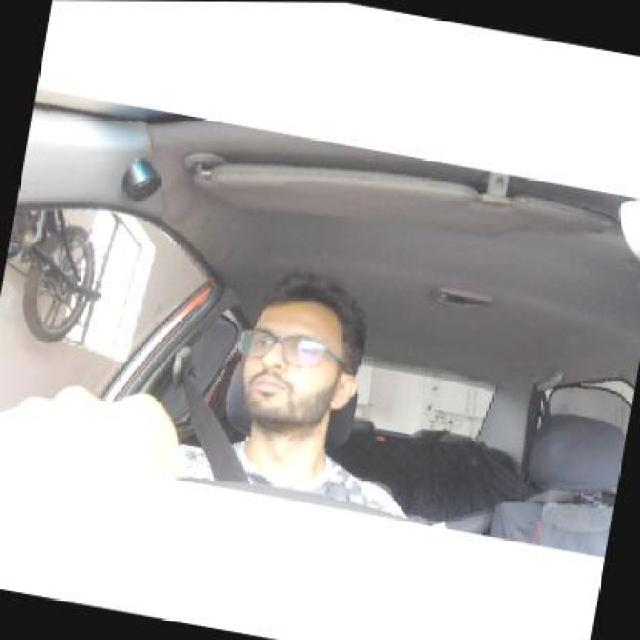person: (238, 270, 368, 438)
